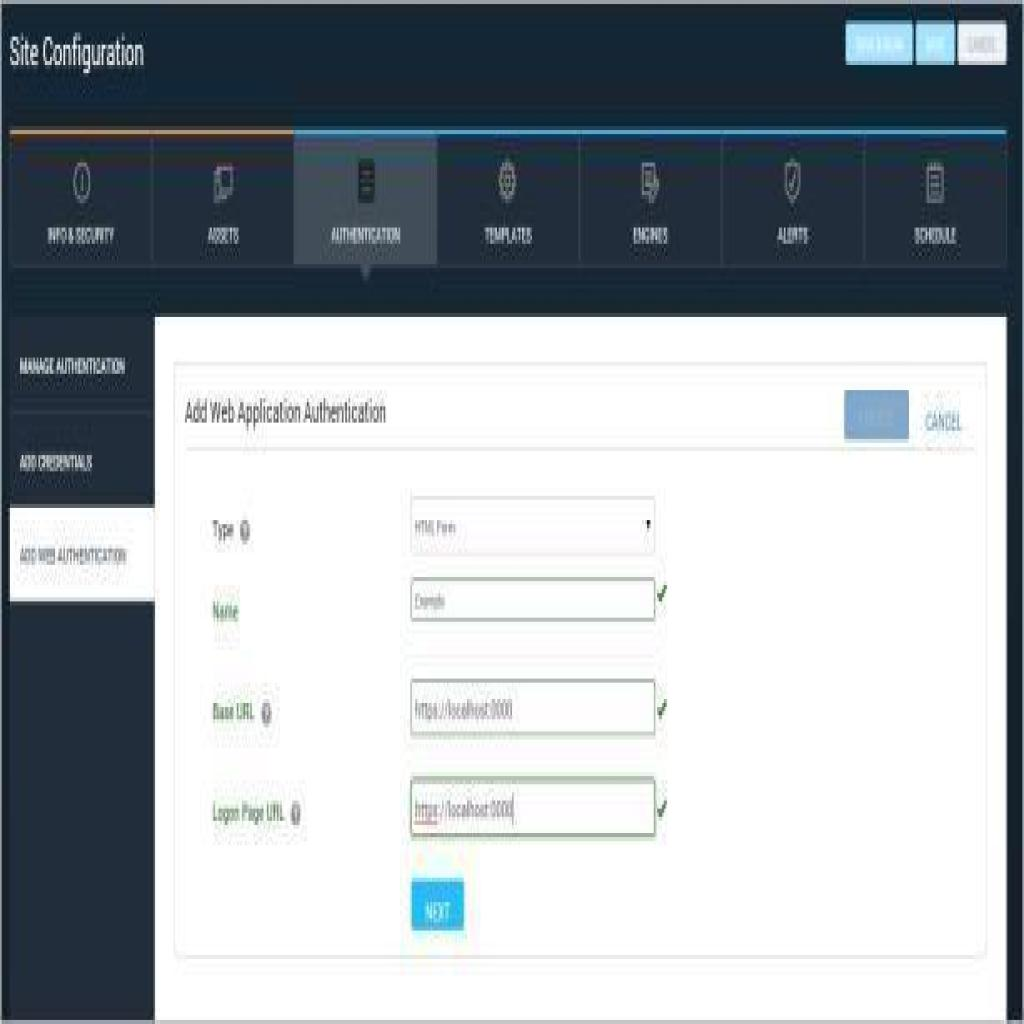button: (8, 313, 155, 406), (10, 410, 155, 504), (10, 508, 155, 601), (844, 390, 910, 439), (412, 878, 464, 930), (847, 24, 912, 61), (957, 20, 1006, 65), (917, 20, 956, 65)
dropdown: (412, 492, 654, 552)
icon: (924, 158, 951, 208), (214, 154, 235, 212), (639, 158, 662, 208), (497, 158, 519, 208), (358, 154, 378, 208), (782, 158, 802, 212), (72, 163, 93, 207), (288, 797, 302, 837), (655, 796, 669, 829), (262, 695, 272, 727), (657, 691, 667, 723), (240, 516, 250, 545), (657, 581, 667, 606)
input: (414, 678, 656, 736), (414, 776, 652, 833), (410, 573, 656, 618)
label: (182, 390, 388, 439), (10, 20, 153, 82), (42, 215, 118, 256), (209, 792, 285, 833), (328, 223, 402, 252), (210, 585, 244, 634), (484, 219, 534, 252), (922, 402, 966, 439), (210, 695, 257, 727), (207, 508, 238, 553), (914, 223, 957, 248), (632, 223, 669, 248), (207, 223, 240, 244), (777, 227, 809, 248)
